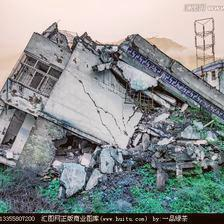Destroyed_Building: (0, 21, 224, 197)
